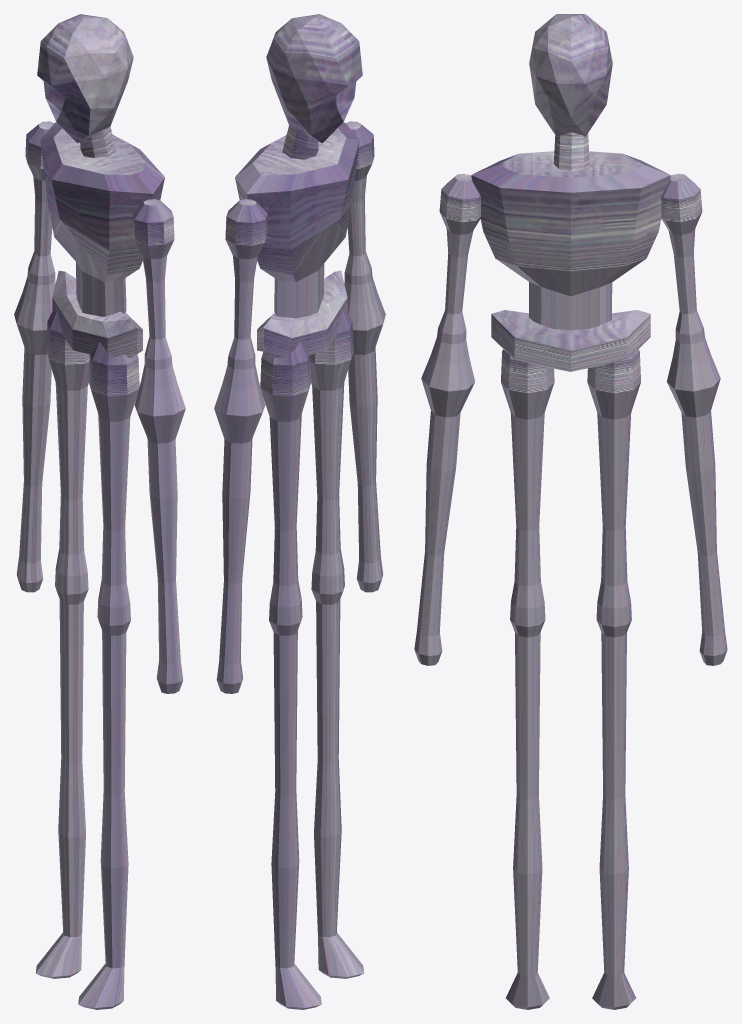
Rendered from placeholder_enemy.fbx.
The picture shows the model from 3 angles, left to right: view 1: azimuth 30°, elevation 25°; view 2: azimuth 150°, elevation 25°; view 3: azimuth 270°, elevation 25°; orthographic projection.
Parts seen in each view (by area): view 1: fella; view 2: fella; view 3: fella.
Part boxes in pixels (left/top/right/bottom): fella: left=14, top=14, right=185, bottom=1009; fella: left=214, top=14, right=385, bottom=1009; fella: left=414, top=14, right=727, bottom=1009.
Size of the model in its own units: 216 by 2077 by 598.
